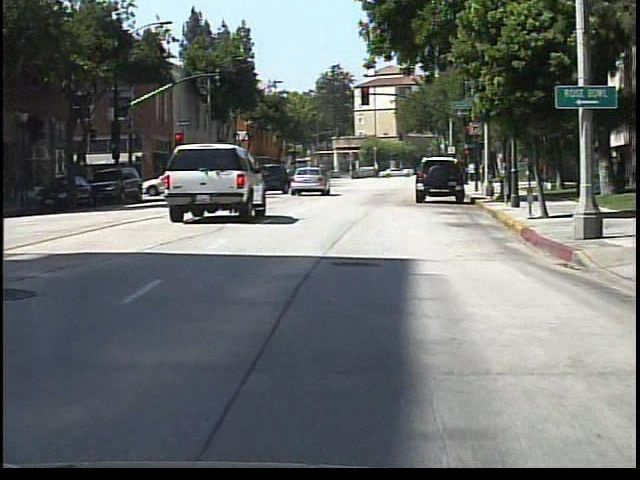person: (314, 158, 335, 195), (468, 161, 477, 184), (540, 157, 541, 189)
